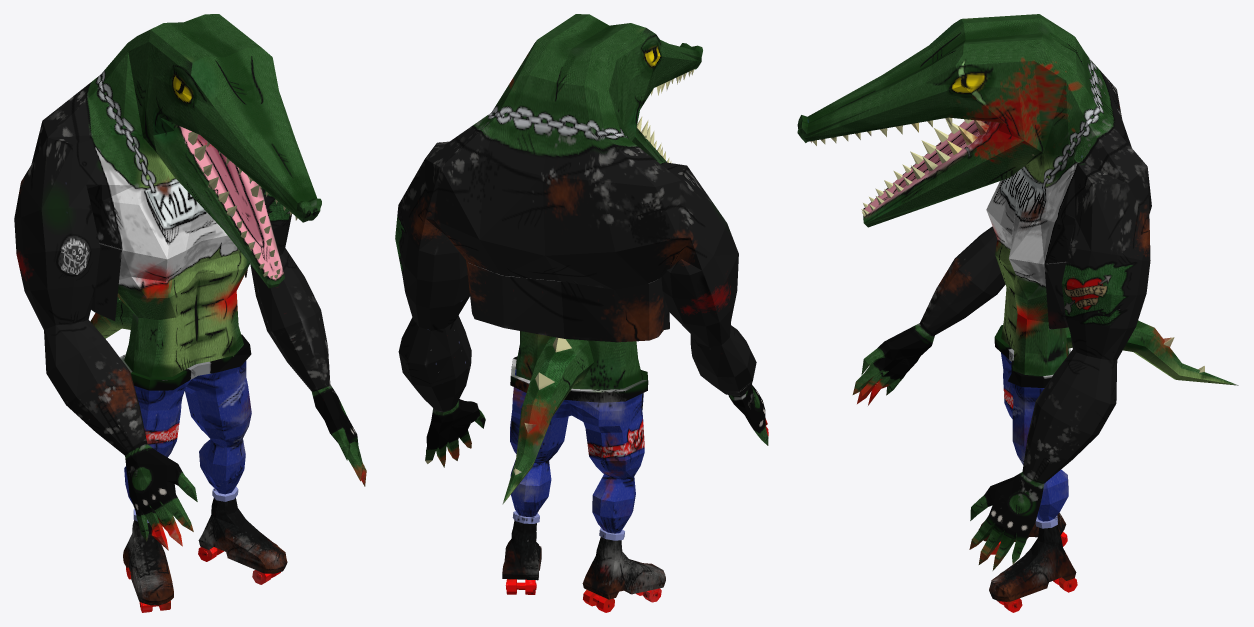
File: cocodrilaBonesSelect_000042.obj
The picture shows the model from 3 angles, left to right: view 1: azimuth 30°, elevation 25°; view 2: azimuth 150°, elevation 25°; view 3: azimuth 270°, elevation 25°; orthographic projection. The views are drawn at different scales.
Parts seen in each view (by area): view 1: Crocodile.002_Cylinder.002; view 2: Crocodile.002_Cylinder.002; view 3: Crocodile.002_Cylinder.002.
Part boxes in pixels (left/top/right/bottom): Crocodile.002_Cylinder.002: left=14, top=14, right=366, bottom=612; Crocodile.002_Cylinder.002: left=395, top=14, right=768, bottom=612; Crocodile.002_Cylinder.002: left=797, top=14, right=1238, bottom=612.
Size of the model in its own units: 3.97 by 6.73 by 4.92.
